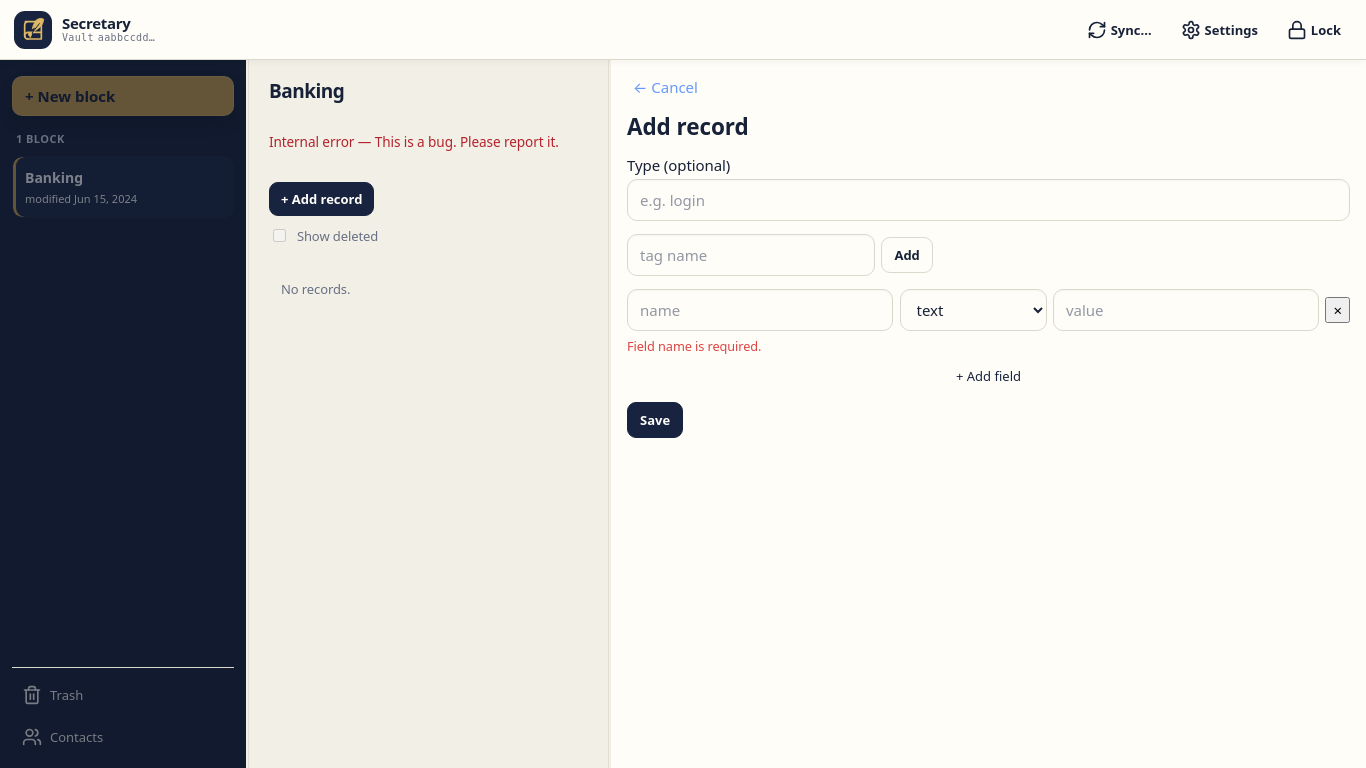
Vault.svelte — sidebar freezes during an edit (#526 review) › re-enables the sidebar once the editor closes via Cancel
Expected: the element with class "record-list" is shown, [269,78,559,298]
Expected: the element with class "editor" is shown, [611,60,1365,454]
Step 1. Click the button "← Cancel" → x=665, y=87, box [627,76,704,98]
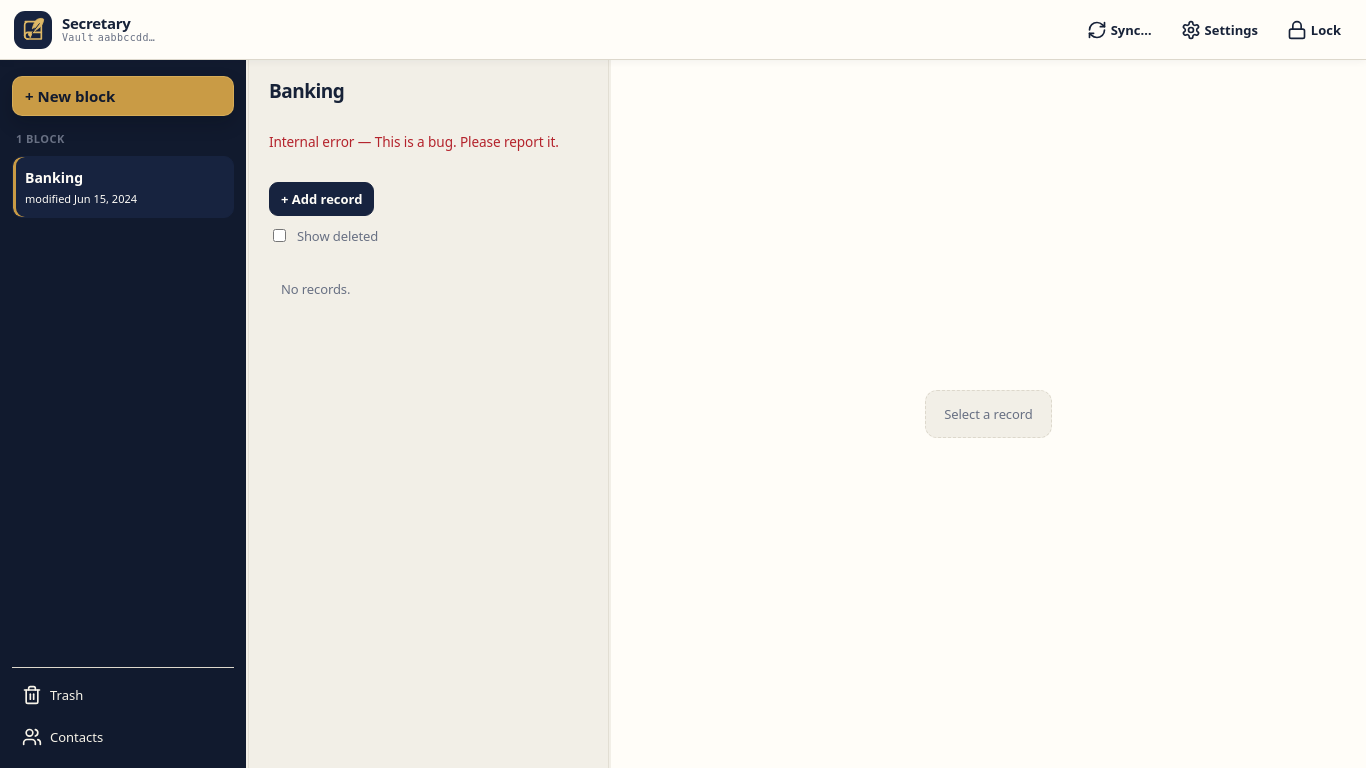
Expected: the element with class "record-list" is shown, [269,78,559,298]
Expected: the button with class "block-card" is enabled, [12,156,234,218]
